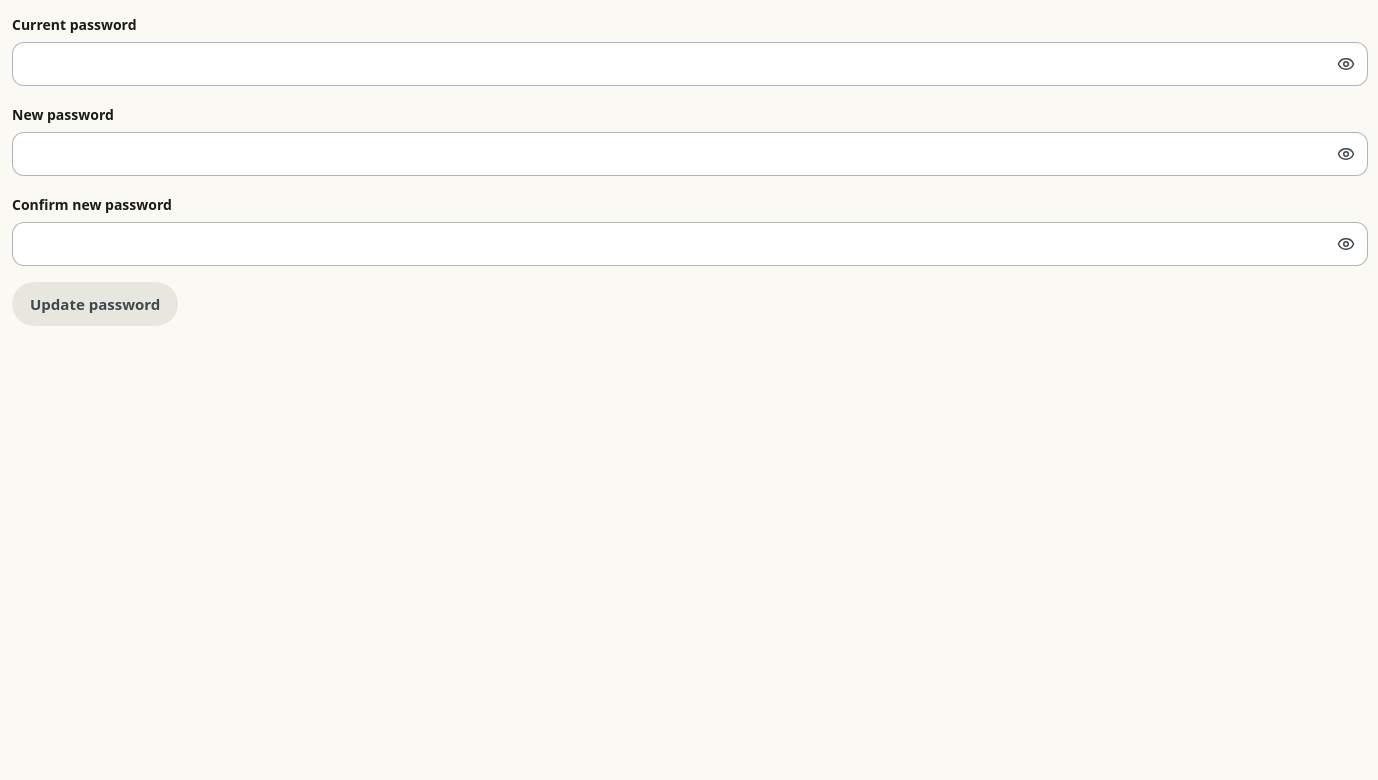
Scenario: ChangePasswordForm › confirms the change in a toast
Type "old-password" into the password field labelled "Current password" at (690, 64), box x1=12 y1=42 x2=1368 y2=86
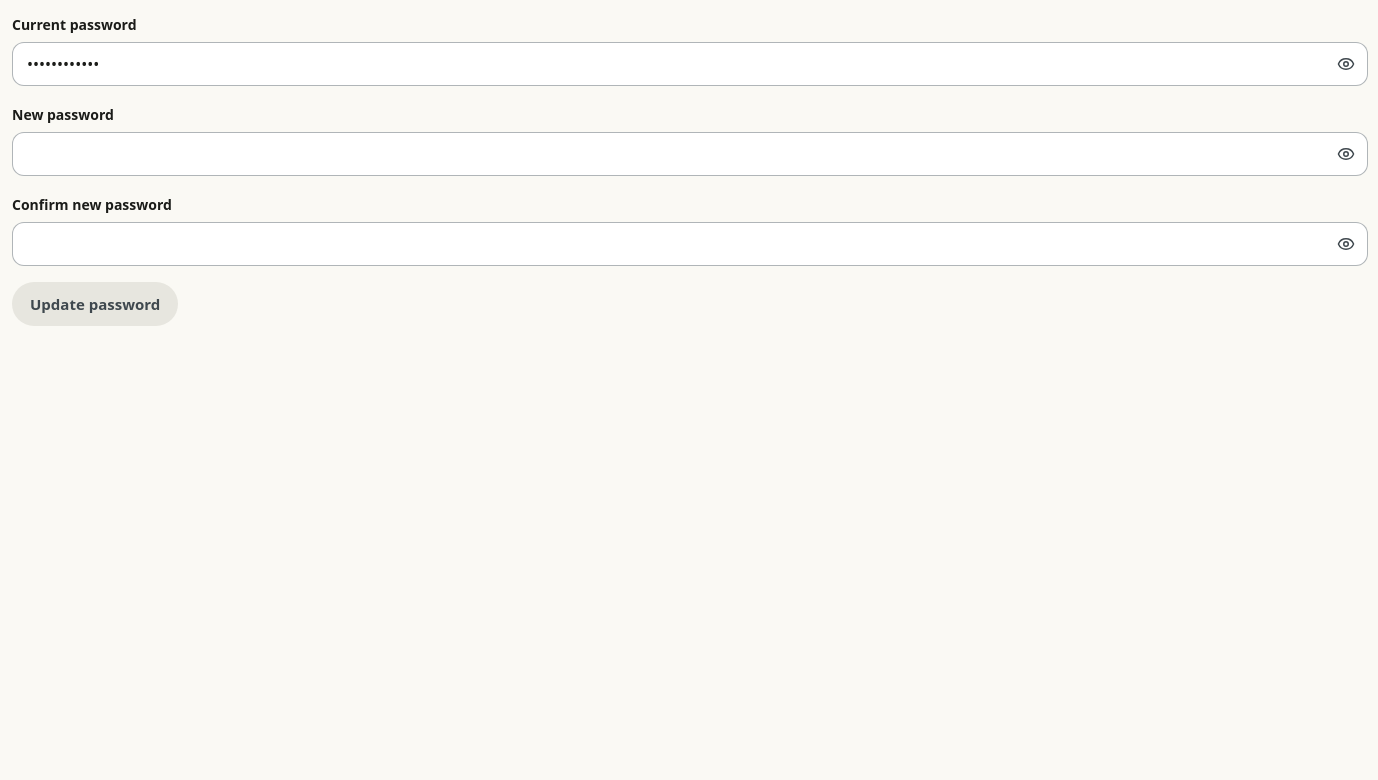
Type "new-password-123" into the password field labelled "New password" at (690, 154), box x1=12 y1=132 x2=1368 y2=176
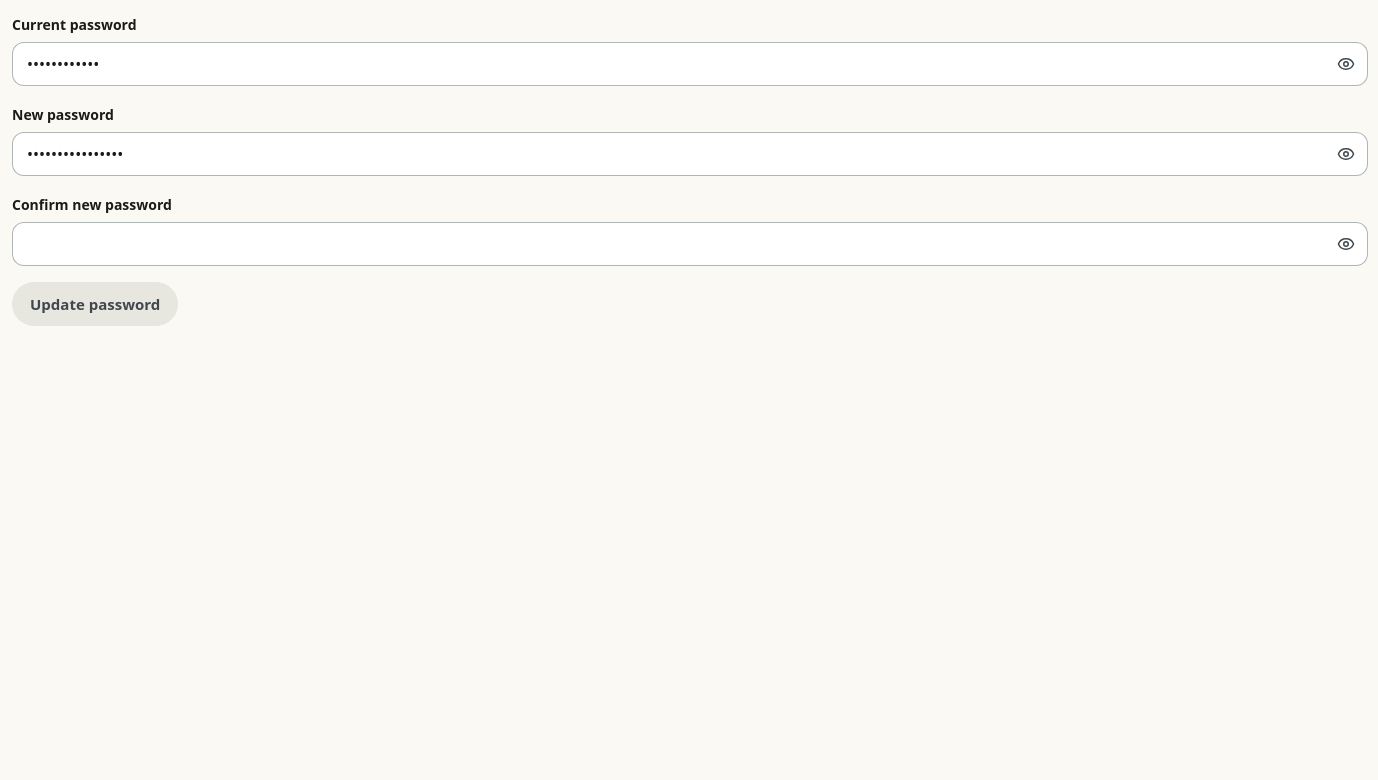
Type "new-password-123" into the password field labelled "Confirm new password" at (690, 244), box x1=12 y1=222 x2=1368 y2=266
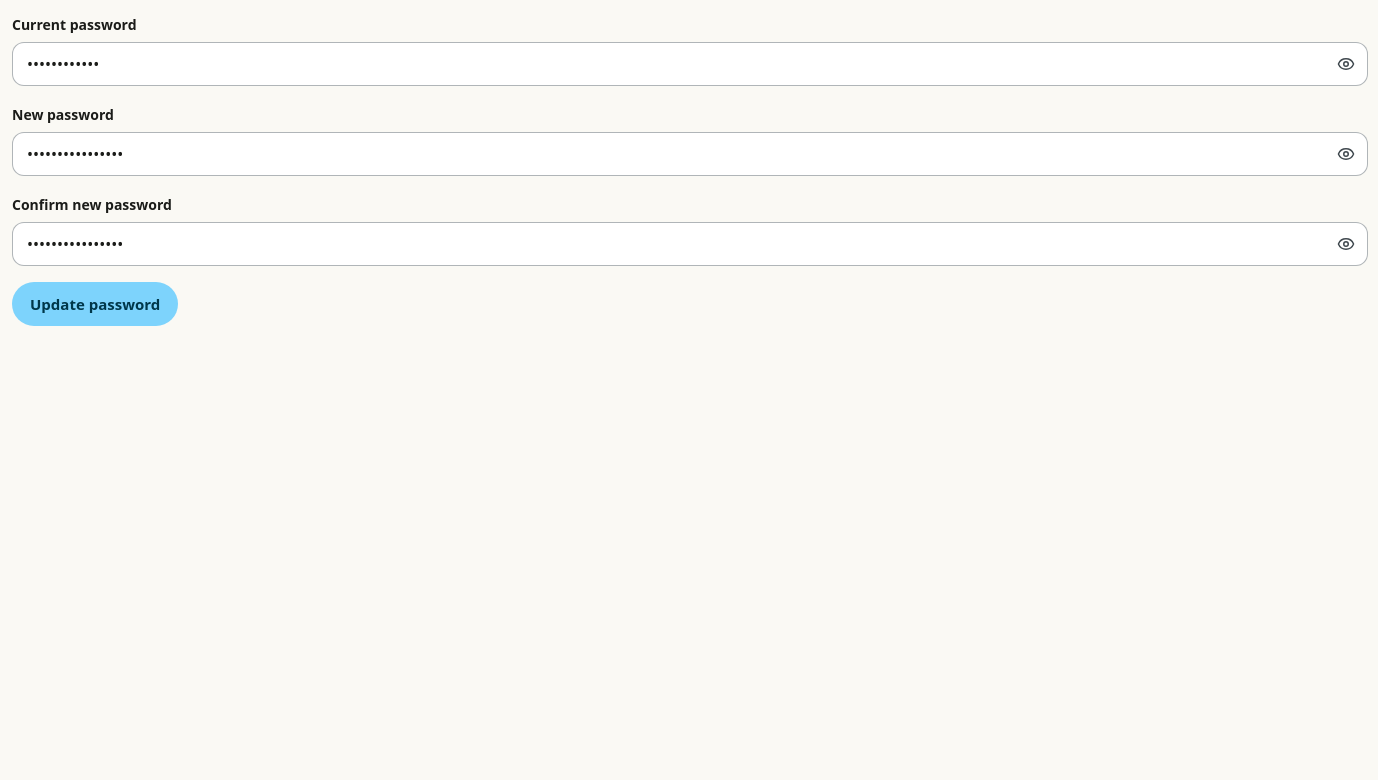
Click the button named "Update password" at (95, 304), box x1=12 y1=282 x2=178 y2=326
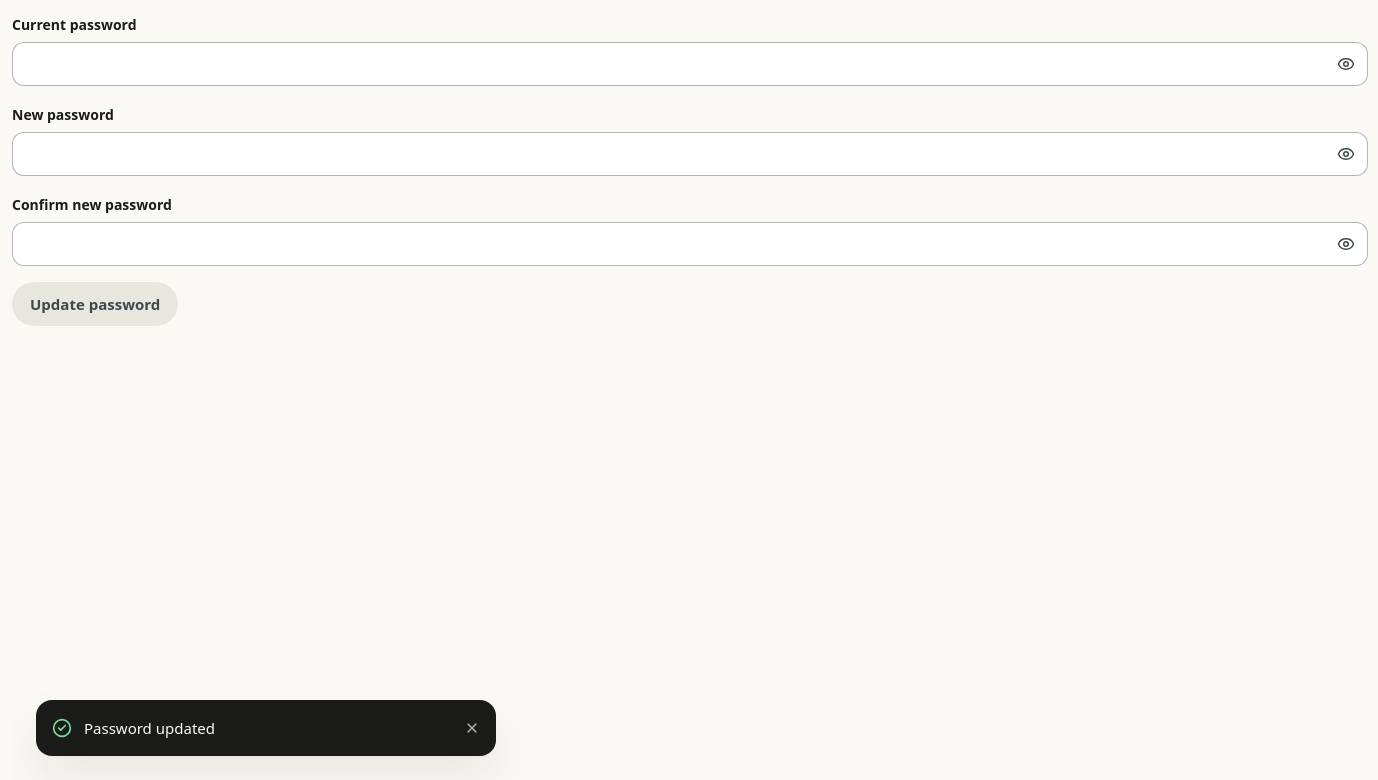
Result: the message reads "Password updated" at x1=84 y1=718 x2=215 y2=738
